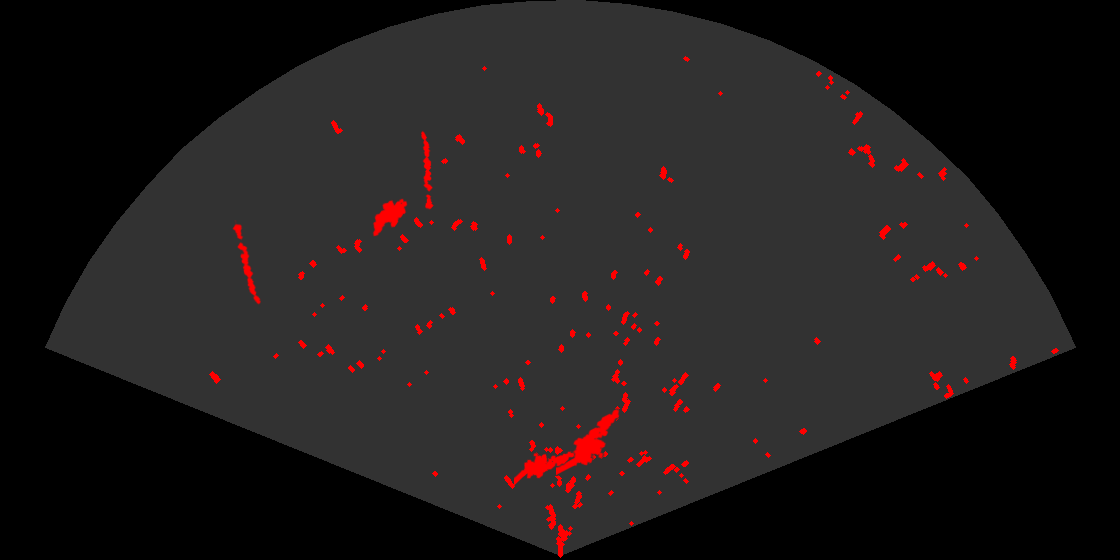AUV: (371, 197, 409, 238)
chain: (231, 220, 262, 307), (420, 130, 435, 210)
frogman: (556, 408, 621, 476), (514, 450, 576, 487)
